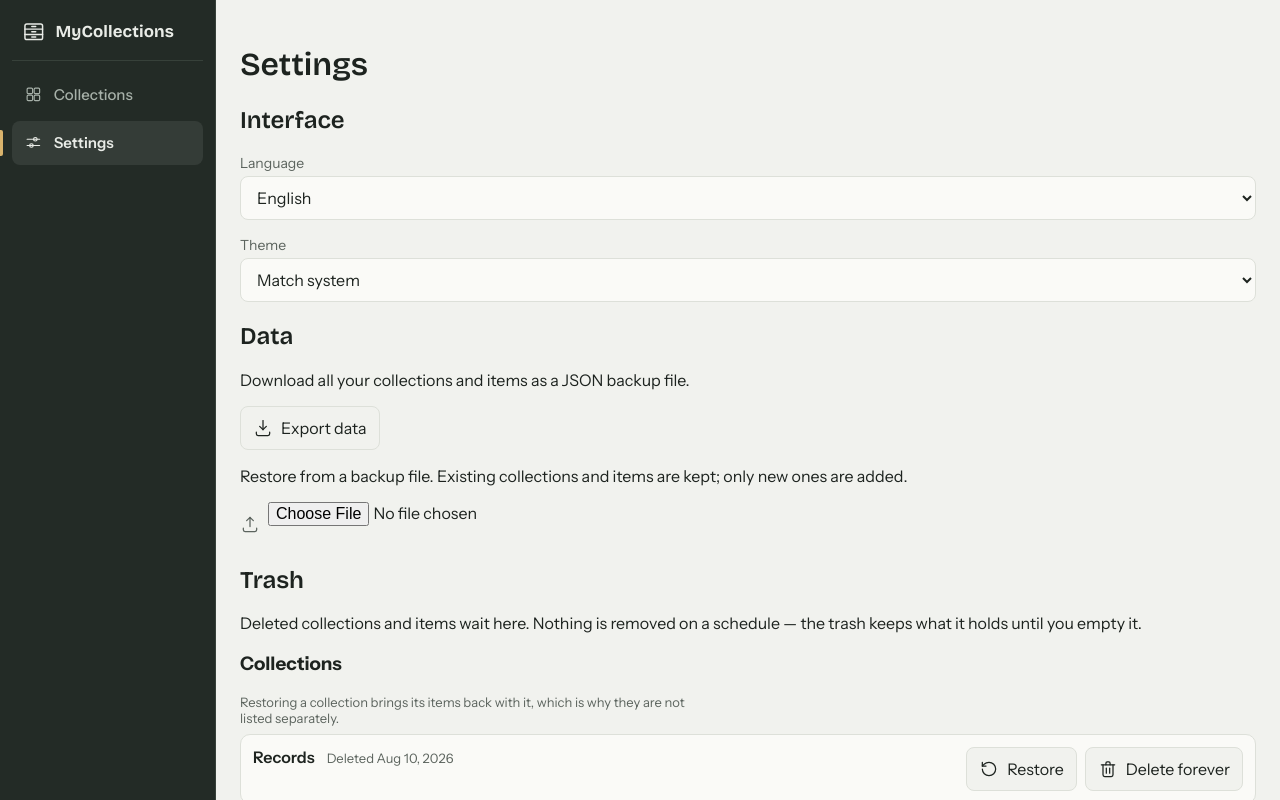
Test: Settings trash restore › says so when a restore fails, and keeps the row
Click the button "Restore" at (1021, 769), box [966, 747, 1077, 791]
(page scrolled)
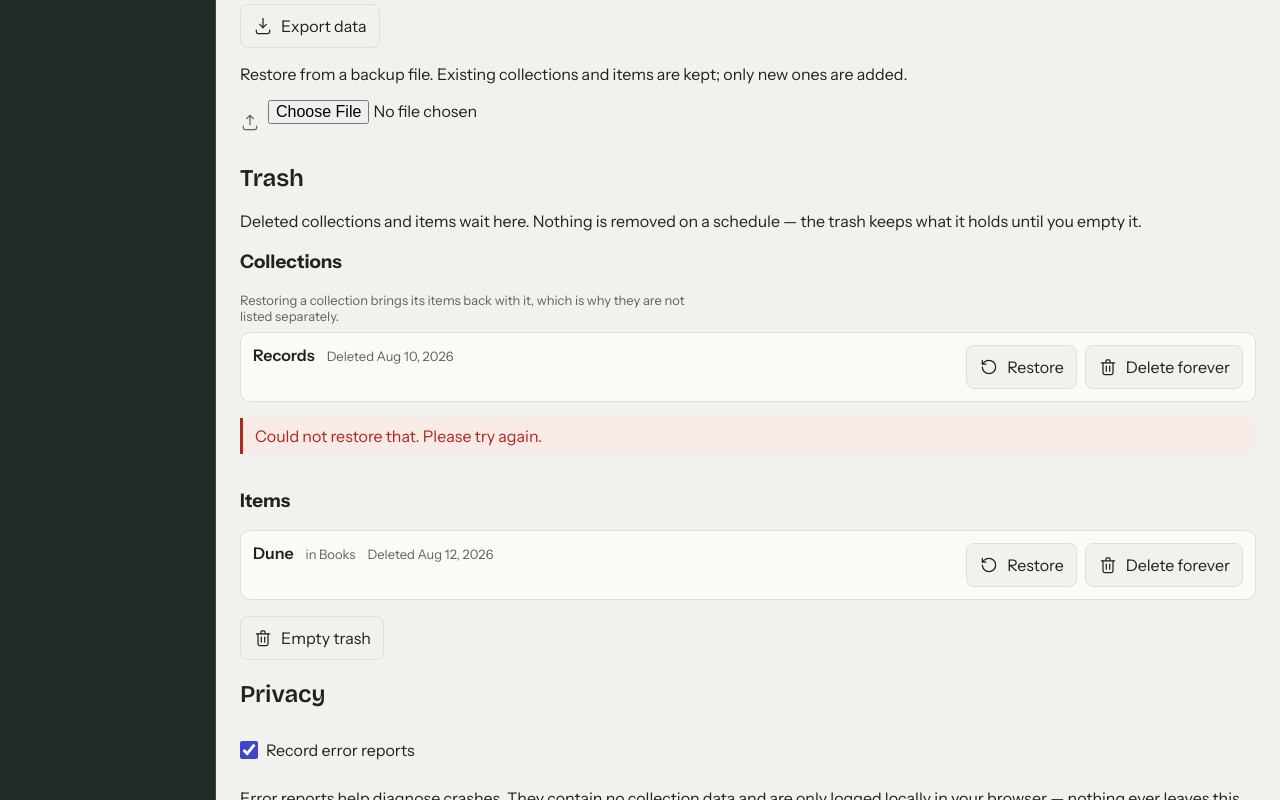
expect the list item that starts with "Records" is shown: met, box [253, 345, 315, 365]
expect the message shows "Could not restore": met, box [255, 426, 542, 446]
